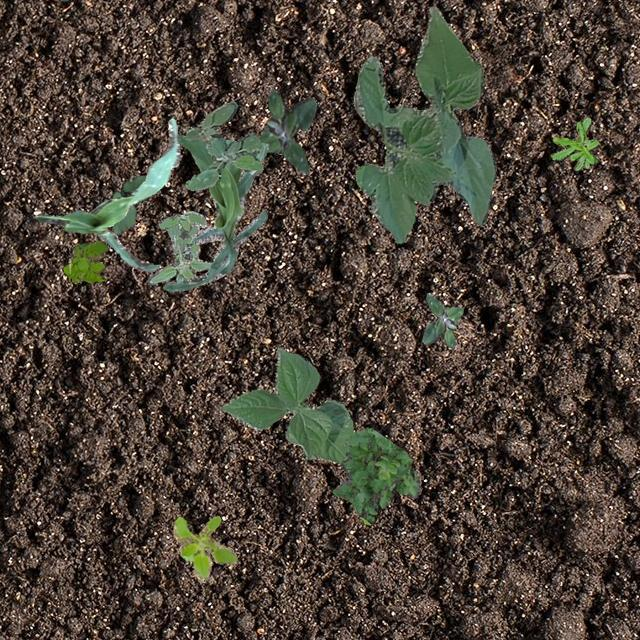crop: (352, 5, 494, 242), (34, 117, 178, 270), (162, 134, 268, 290), (220, 346, 352, 462), (109, 174, 145, 236)
weed: (332, 426, 419, 524), (184, 100, 262, 190), (258, 90, 316, 174), (147, 210, 210, 284), (172, 514, 236, 582), (550, 116, 598, 170), (422, 292, 462, 348), (62, 240, 106, 282)
